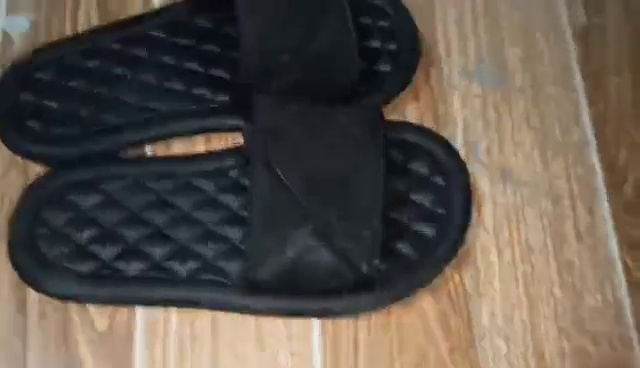slipper: (11, 88, 475, 318), (1, 1, 423, 166)
